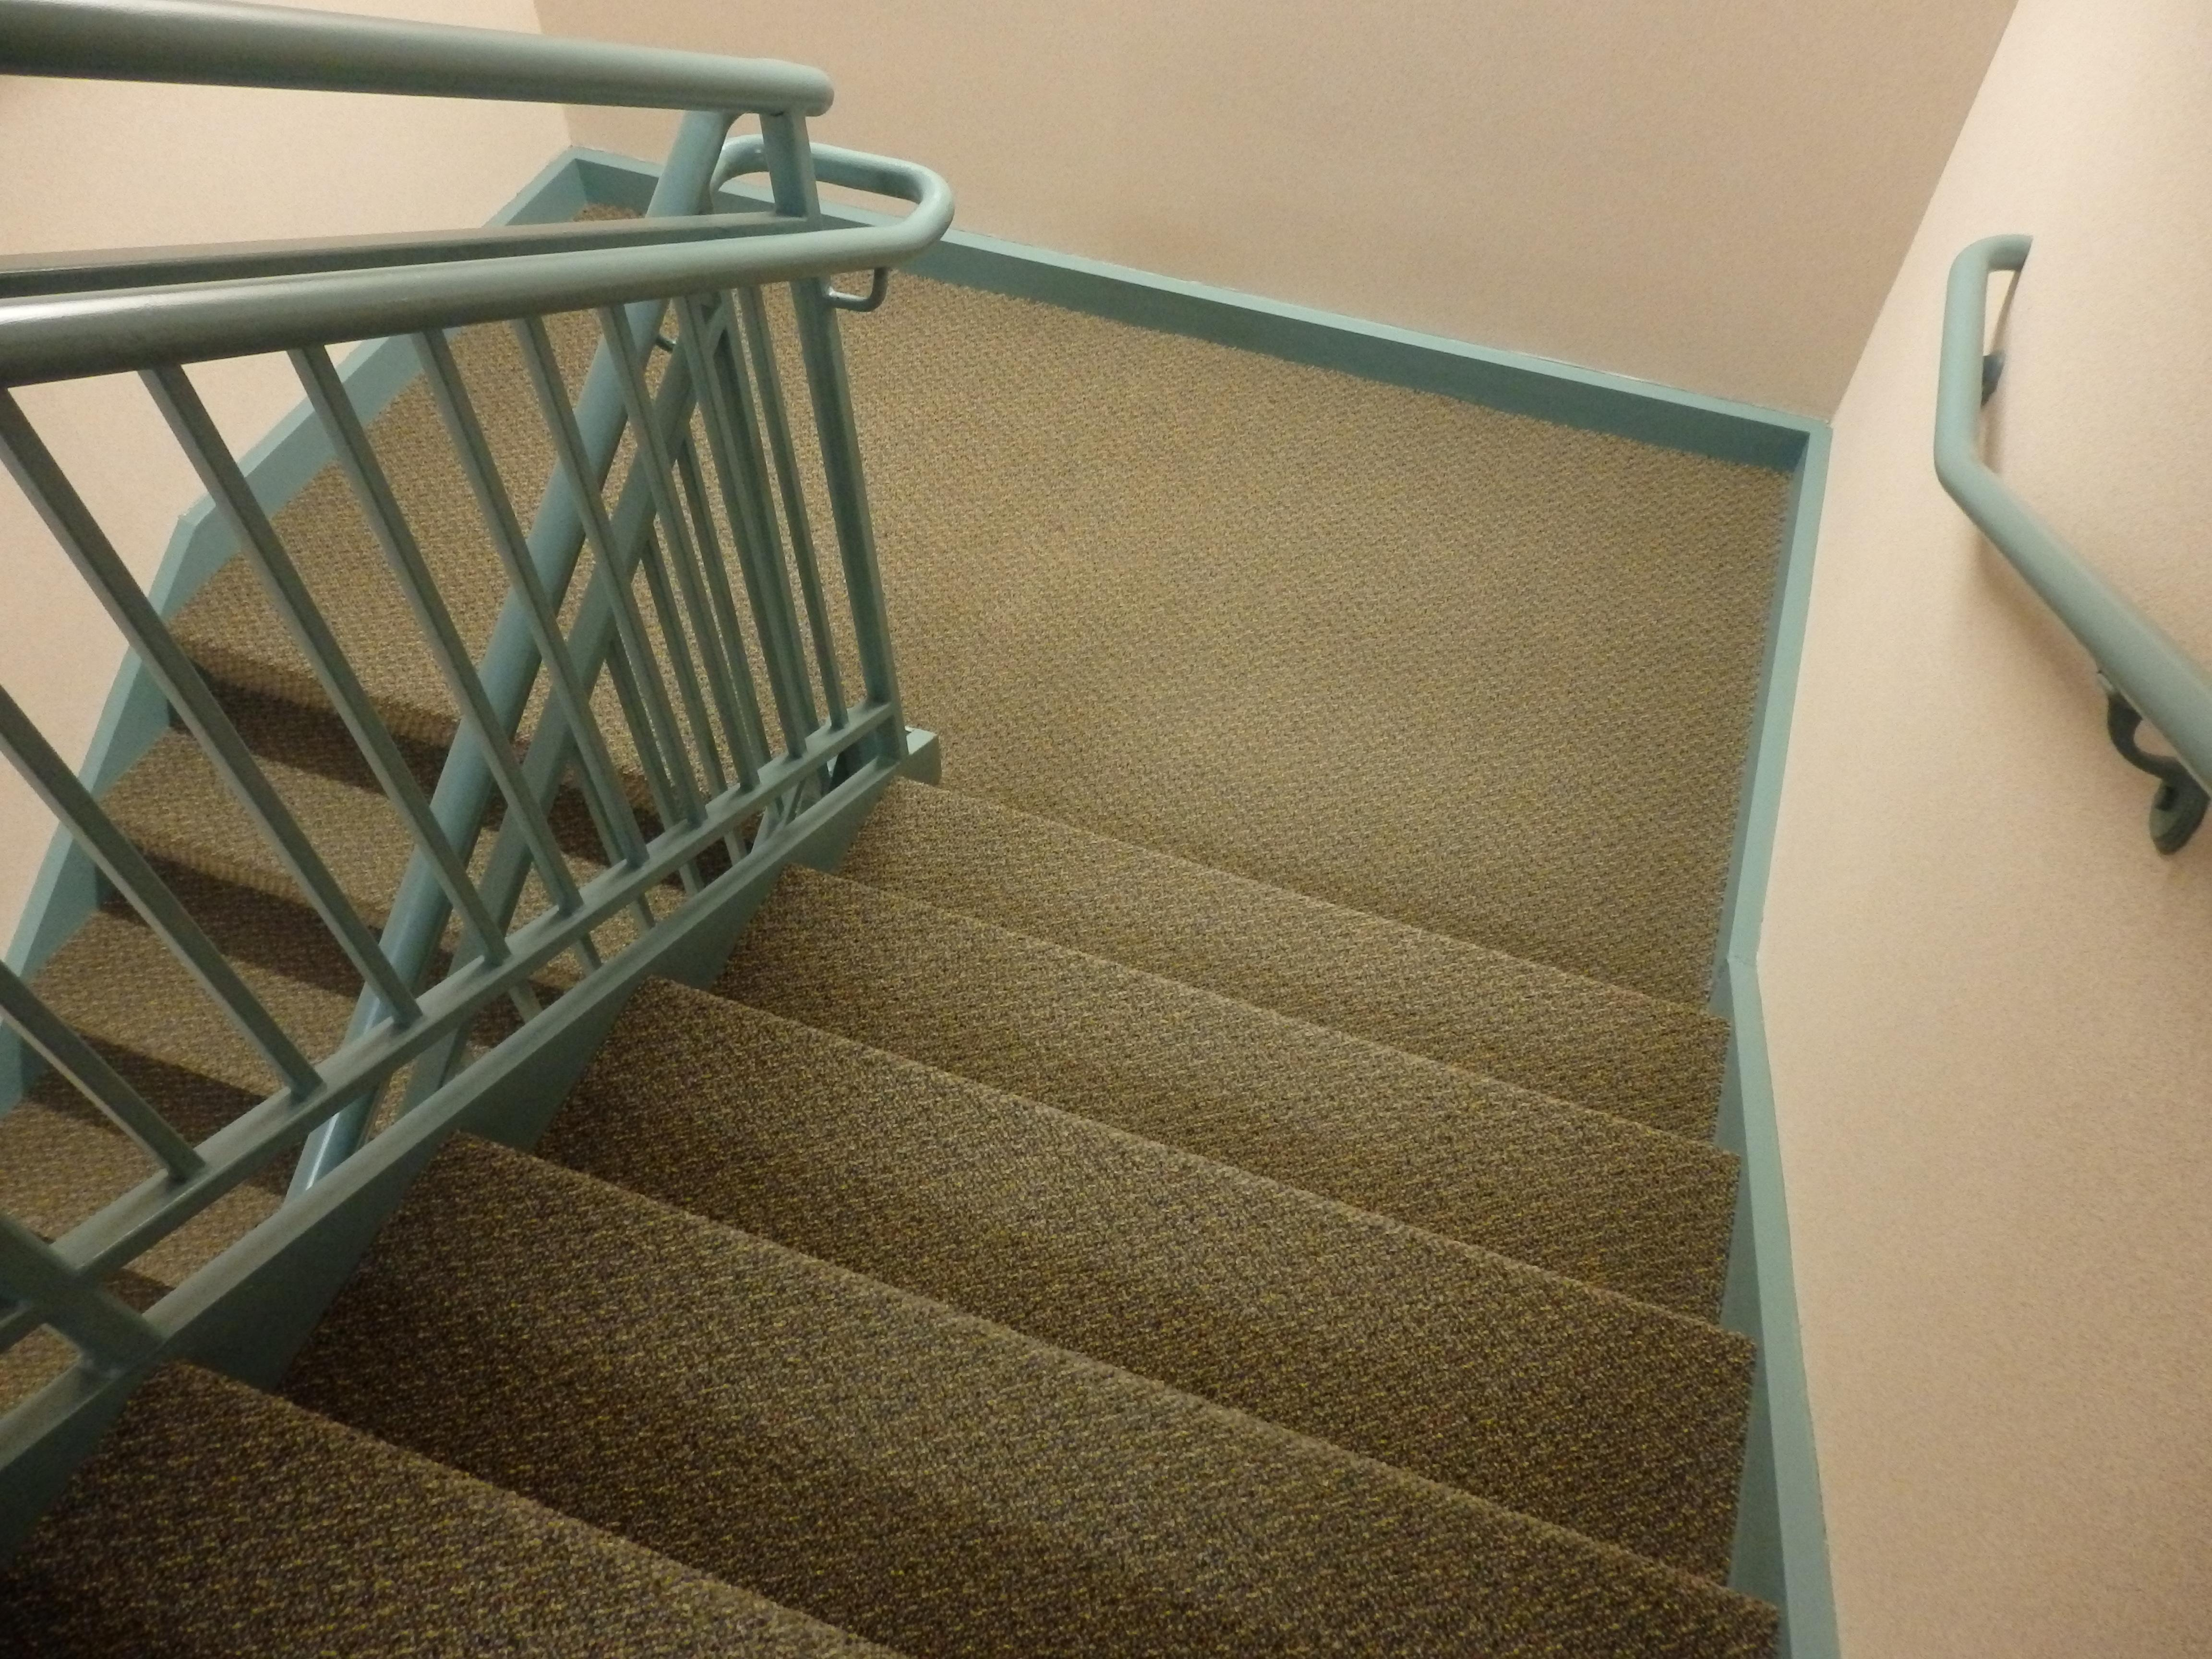stairs_down: (378, 859, 1799, 1624)
